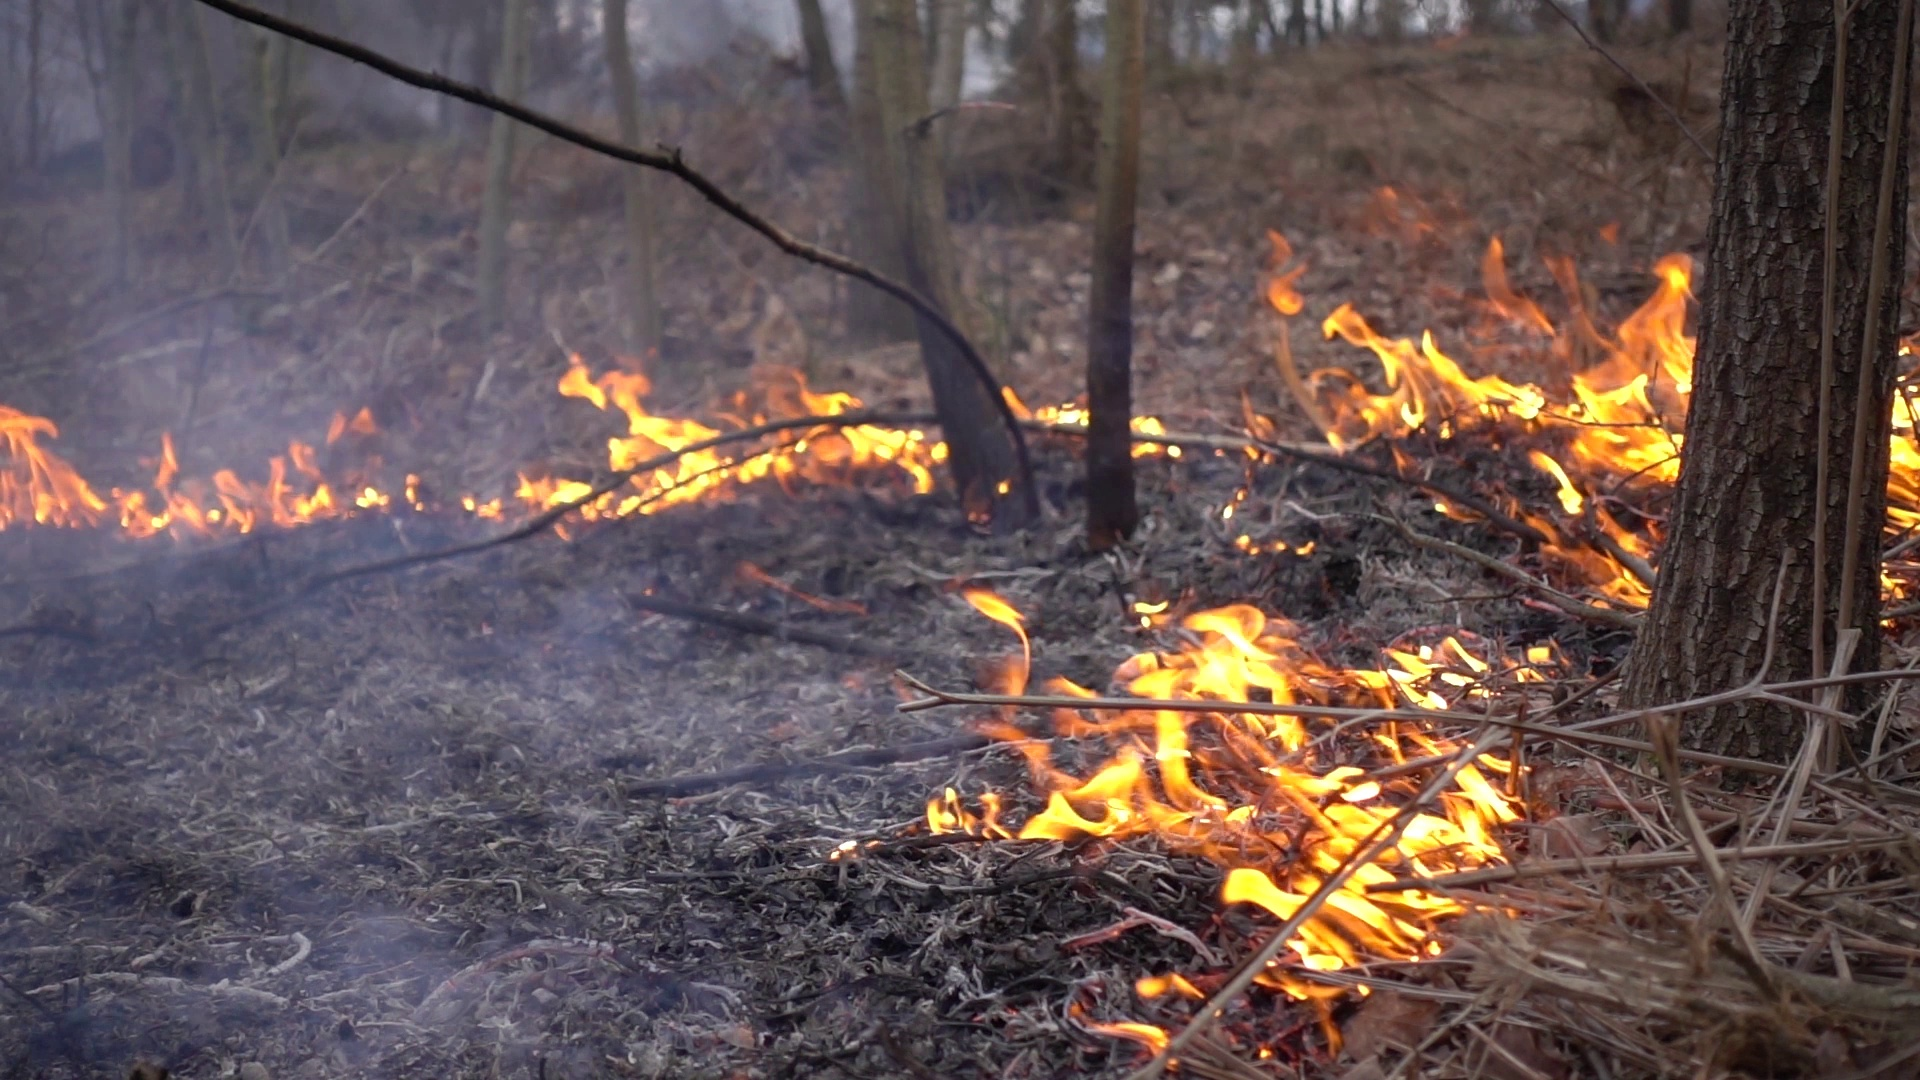fire: (943, 612, 1534, 975), (1261, 251, 1692, 580), (522, 359, 928, 518), (1, 410, 359, 529), (1888, 396, 1920, 531), (1129, 415, 1171, 459)
